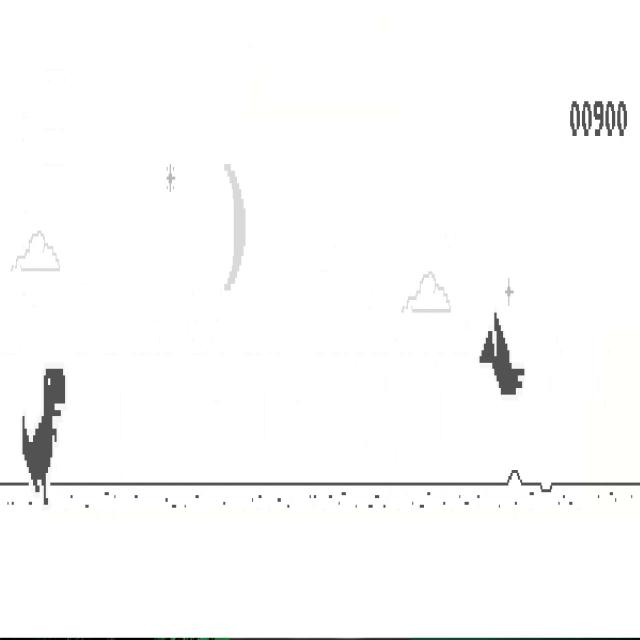dino: (21, 368, 66, 506)
ptero: (479, 311, 525, 397)
